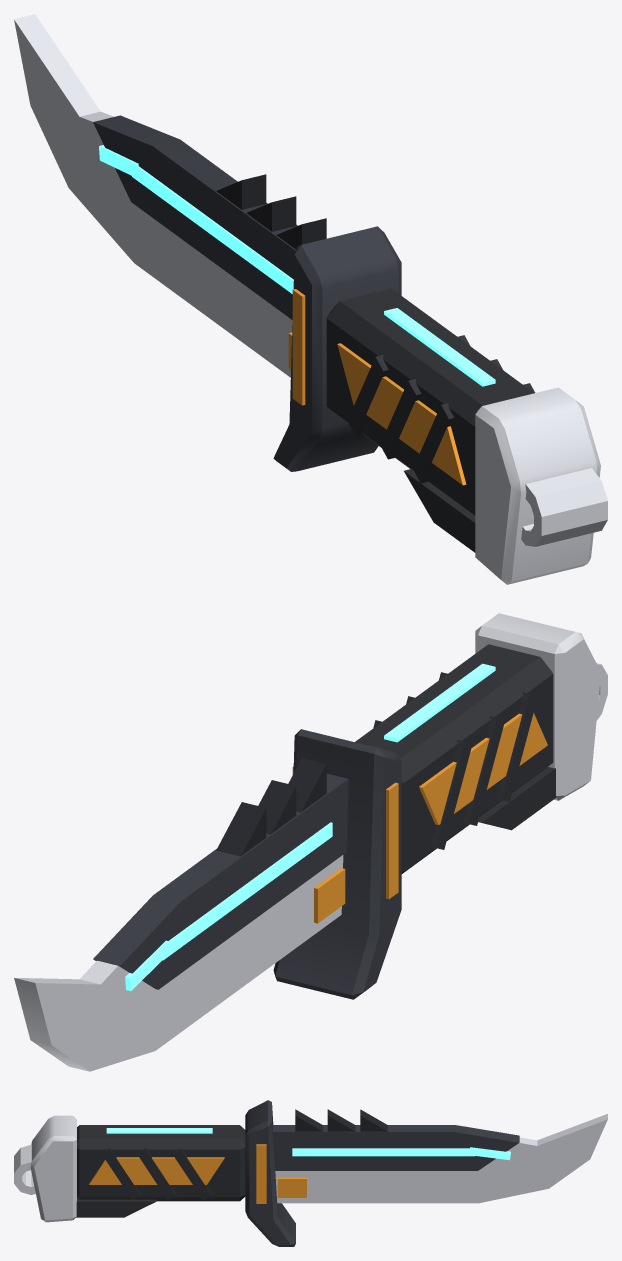
The model's file is Knife.glb.
3 renders of one model, top to bottom at view 1: azimuth 30°, elevation 25°; view 2: azimuth 150°, elevation 25°; view 3: azimuth 270°, elevation 25°, orthographic. The views are drawn at different scales.
Visible parts, largest first — view 1: Blade, Pommel, Handle, Guard, BladeFlat, LanyardRing, HandleInlay, Fuller, HandleHeel, HandleGlow, GuardPlate, Rib2 (+5 smaller); view 2: Blade, Guard, BladeFlat, Handle, Pommel, HandleInlay, Fuller, HandleHeel, Tooth2, HandleGlow, GuardPlate, Rib0 (+6 smaller); view 3: Blade, BladeFlat, Handle, Pommel, Guard, HandleInlay, Fuller, HandleHeel, LanyardRing, GuardPlate, HandleGlow, Rib1 (+7 smaller).
Part boxes in pixels (box(x1,y1,x2,y2)): Blade: box(14, 14, 292, 377); Pommel: box(475, 387, 600, 584); Handle: box(326, 288, 533, 515); Guard: box(273, 226, 401, 471); BladeFlat: box(93, 115, 297, 319); LanyardRing: box(521, 468, 607, 546); HandleInlay: box(337, 343, 466, 485); Fuller: box(132, 163, 293, 293); HandleHeel: box(404, 469, 475, 552); HandleGlow: box(384, 308, 495, 386); GuardPlate: box(292, 289, 305, 405); Rib2: box(413, 383, 535, 483); Blade: box(14, 855, 343, 1071); Guard: box(273, 729, 401, 999); BladeFlat: box(93, 773, 348, 989); Handle: box(355, 644, 553, 873); Pommel: box(475, 613, 600, 800); HandleInlay: box(419, 713, 547, 825); Fuller: box(162, 822, 332, 960); HandleHeel: box(478, 767, 556, 830); Tooth2: box(216, 802, 266, 856); HandleGlow: box(384, 663, 495, 742); GuardPlate: box(292, 766, 398, 899); Rib0: box(373, 720, 472, 849); Blade: box(275, 1114, 607, 1203); BladeFlat: box(273, 1125, 519, 1170); Handle: box(77, 1125, 245, 1201); Pommel: box(30, 1115, 76, 1222); Guard: box(245, 1100, 295, 1246); HandleInlay: box(89, 1157, 224, 1184); Fuller: box(292, 1148, 475, 1156); HandleHeel: box(76, 1198, 156, 1217); LanyardRing: box(14, 1144, 35, 1194); GuardPlate: box(256, 1144, 266, 1203); HandleGlow: box(106, 1128, 212, 1133); Rib1: box(137, 1148, 176, 1199).
Size of the model in its own units: 0.204 by 0.4732 by 2.01.
